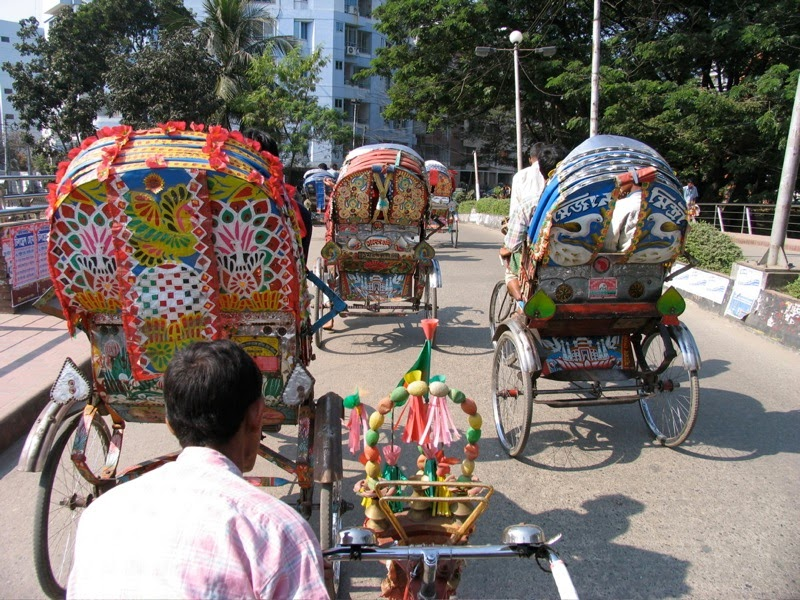Rickshaw: (24, 114, 336, 594), (503, 123, 706, 461), (325, 134, 445, 360)
